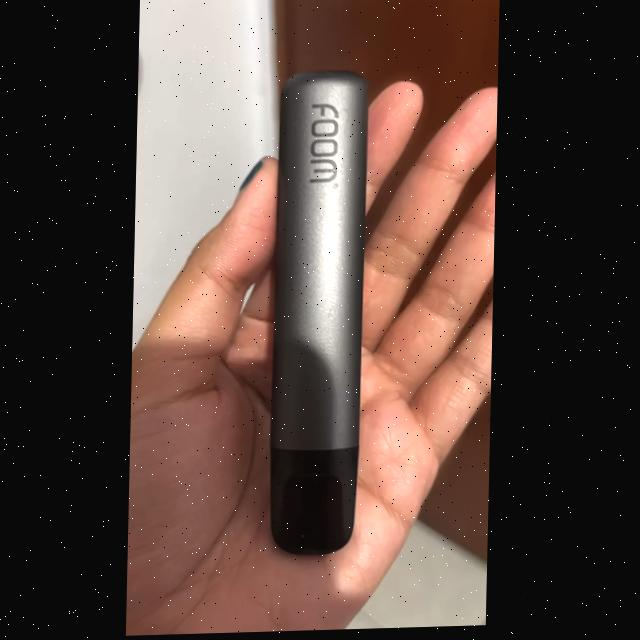vape: (273, 71, 372, 563)
